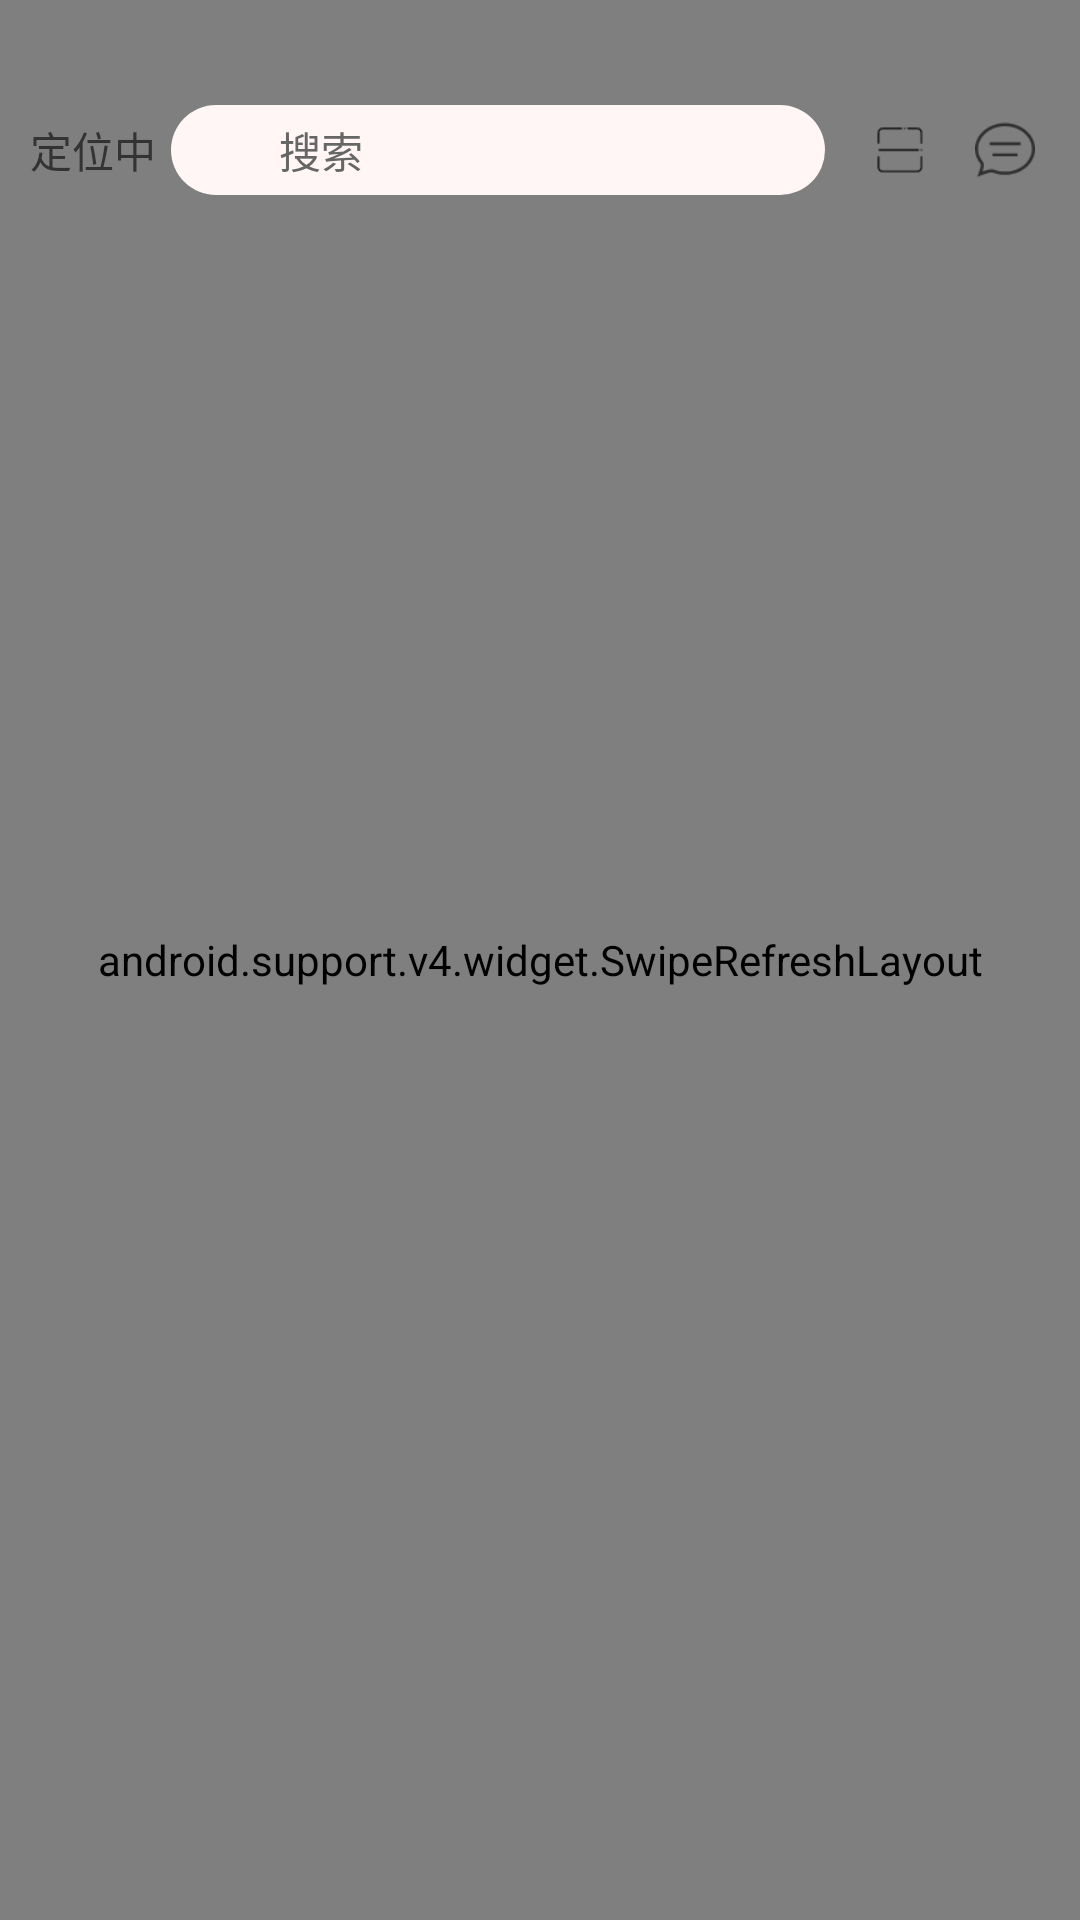

Icon click points for this 1080 × 1920 phone screenshot, format [x,y]:
msg read: [1005,150]
scan home: [900,150]
